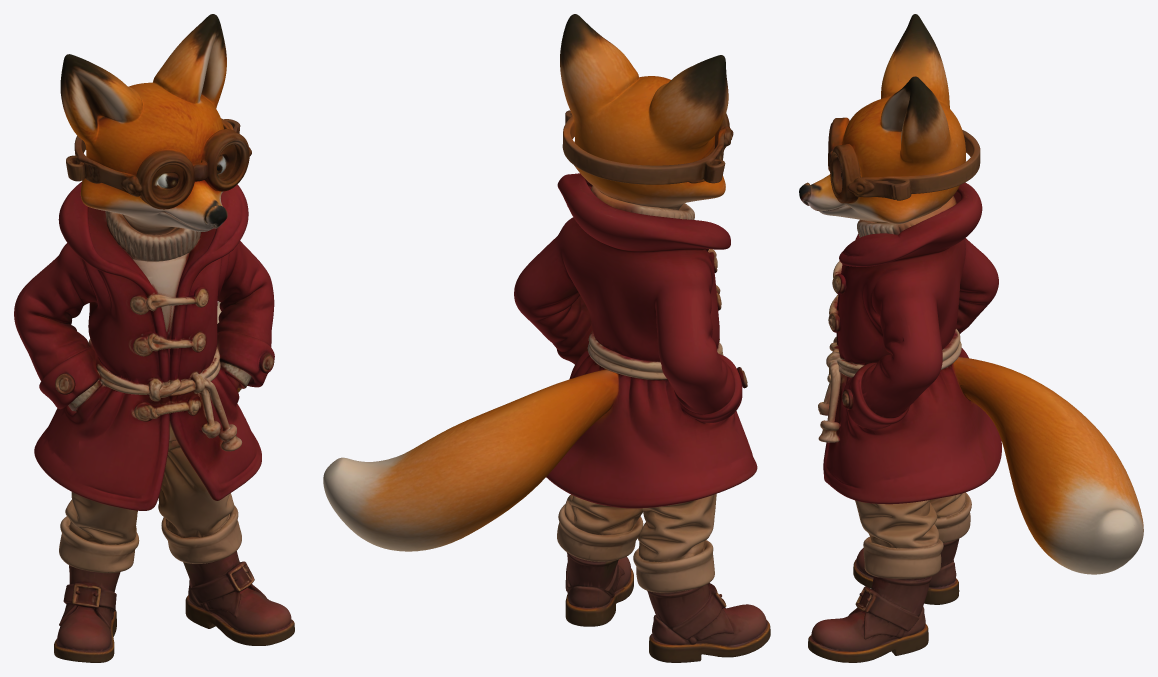
Rendered from agent-02.glb.
3 renders of one model, left to right at view 1: azimuth 30°, elevation 25°; view 2: azimuth 150°, elevation 25°; view 3: azimuth 270°, elevation 25°, orthographic. The views are drawn at different scales.
Visible parts, largest first — view 1: material; view 2: material; view 3: material.
Boxes of the visible parts, x1,y1,x2,y2 form: material: (14, 14, 294, 662); material: (323, 14, 770, 662); material: (799, 14, 1143, 662).
Bounding box in the file's own units: 0.5713 × 1.04 × 0.5674.
1 material, 1 textured.
